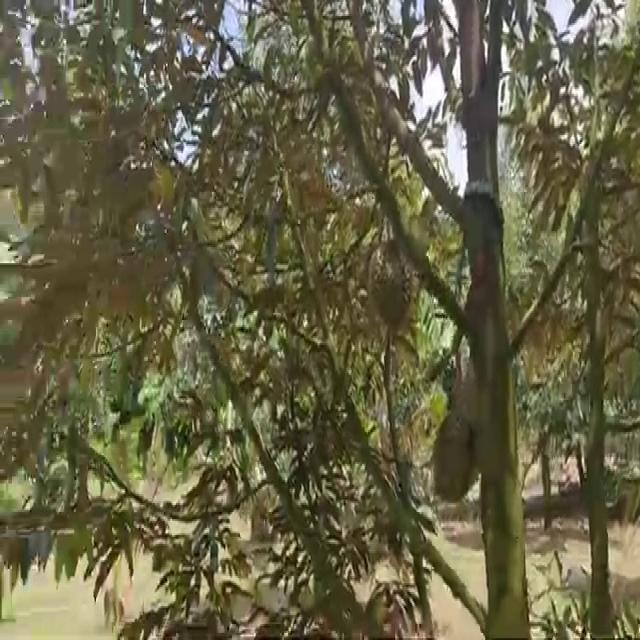durian: (430, 391, 490, 506), (361, 228, 422, 341)
